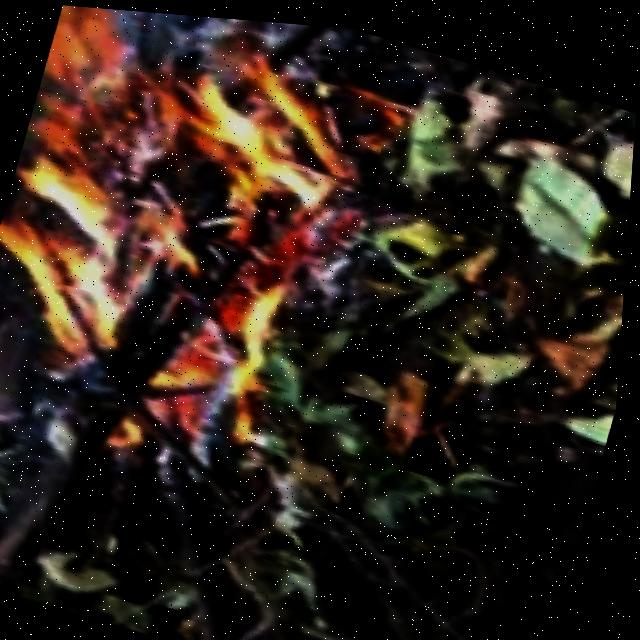Fire: (0, 0, 437, 451)
